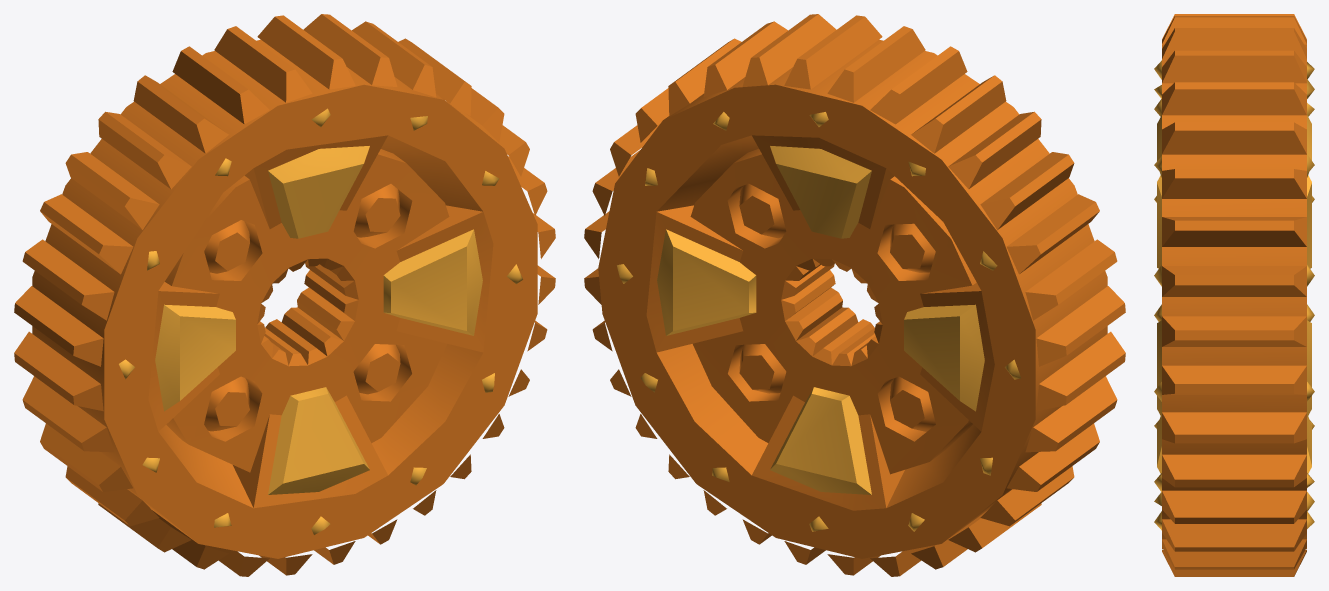
File: item_damage.glb
3 views of the same model, side by side, from view 1: azimuth 30°, elevation 25°; view 2: azimuth 150°, elevation 25°; view 3: azimuth 270°, elevation 25° (orthographic).
Parts seen in each view (by area): view 1: item_mesh; view 2: item_mesh; view 3: item_mesh.
Boxes of the visible parts, box(x1,y1,x2,y2) form: item_mesh: box(14, 14, 555, 576); item_mesh: box(584, 14, 1125, 576); item_mesh: box(1154, 14, 1314, 576).
Size of the model in its own units: 0.9 by 0.9 by 0.2579.
Materials: 1 (1 with a texture image).
